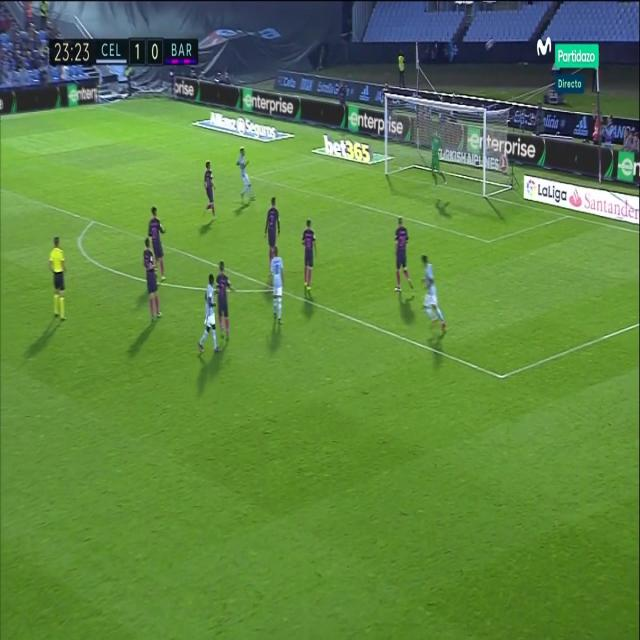Ball: (483, 36, 494, 54)
Goalkeeper: (428, 130, 449, 187)
Player: (418, 254, 448, 332), (392, 216, 416, 296), (142, 237, 164, 324), (198, 272, 219, 362), (147, 203, 169, 284), (216, 260, 236, 344), (300, 218, 320, 294), (269, 246, 287, 330), (264, 195, 281, 268), (236, 146, 255, 206), (202, 158, 218, 223)
Referee: (47, 232, 69, 326)
